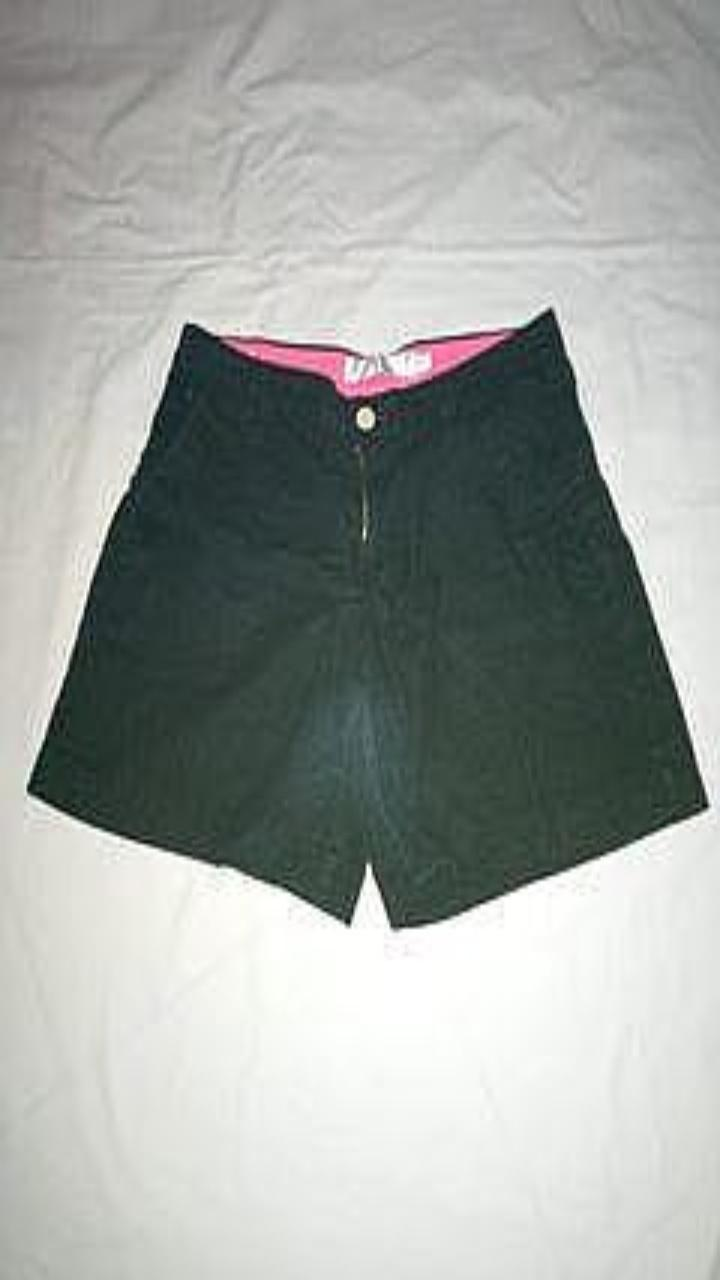Shorts: (26, 307, 708, 927)
